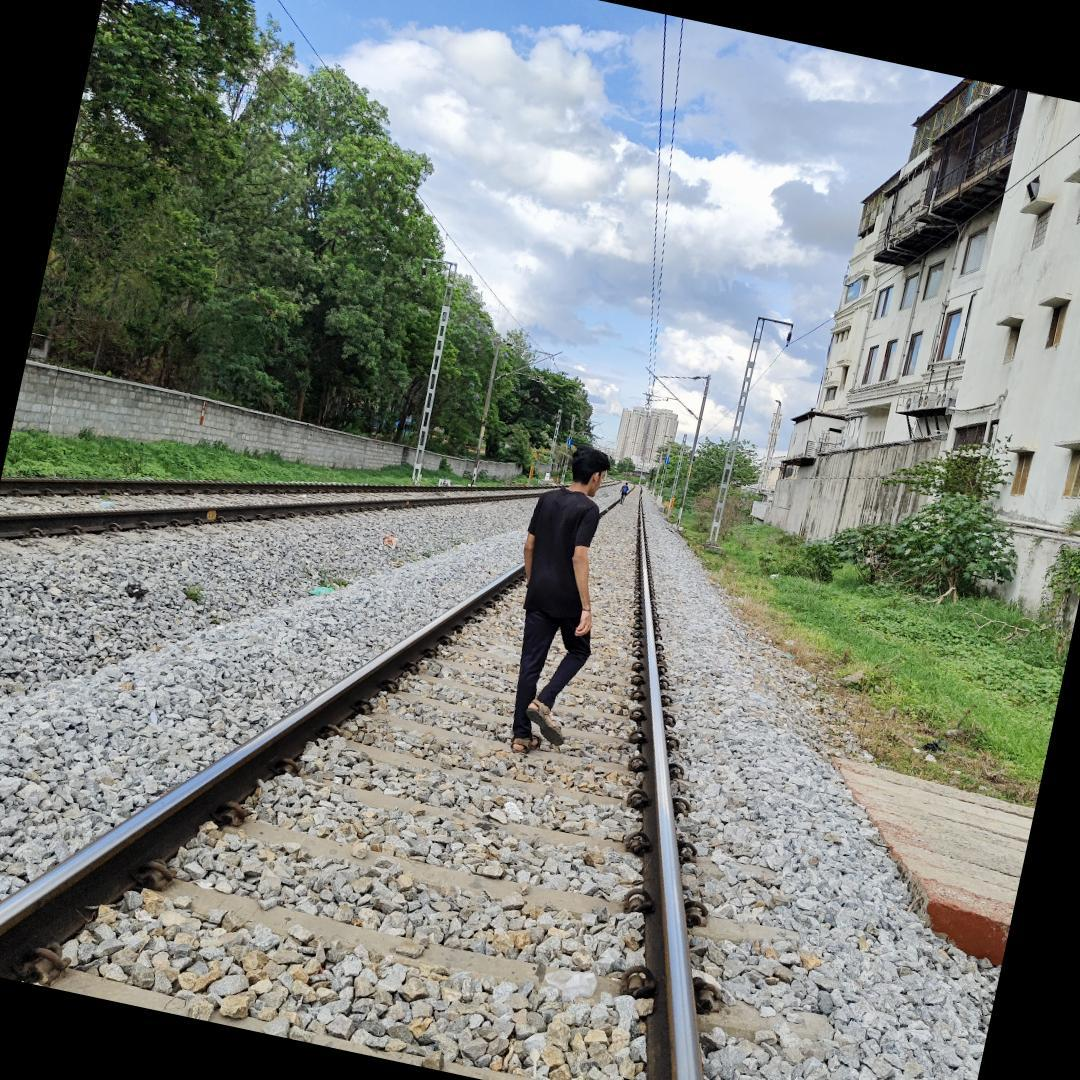standing: (472, 429, 652, 773)
